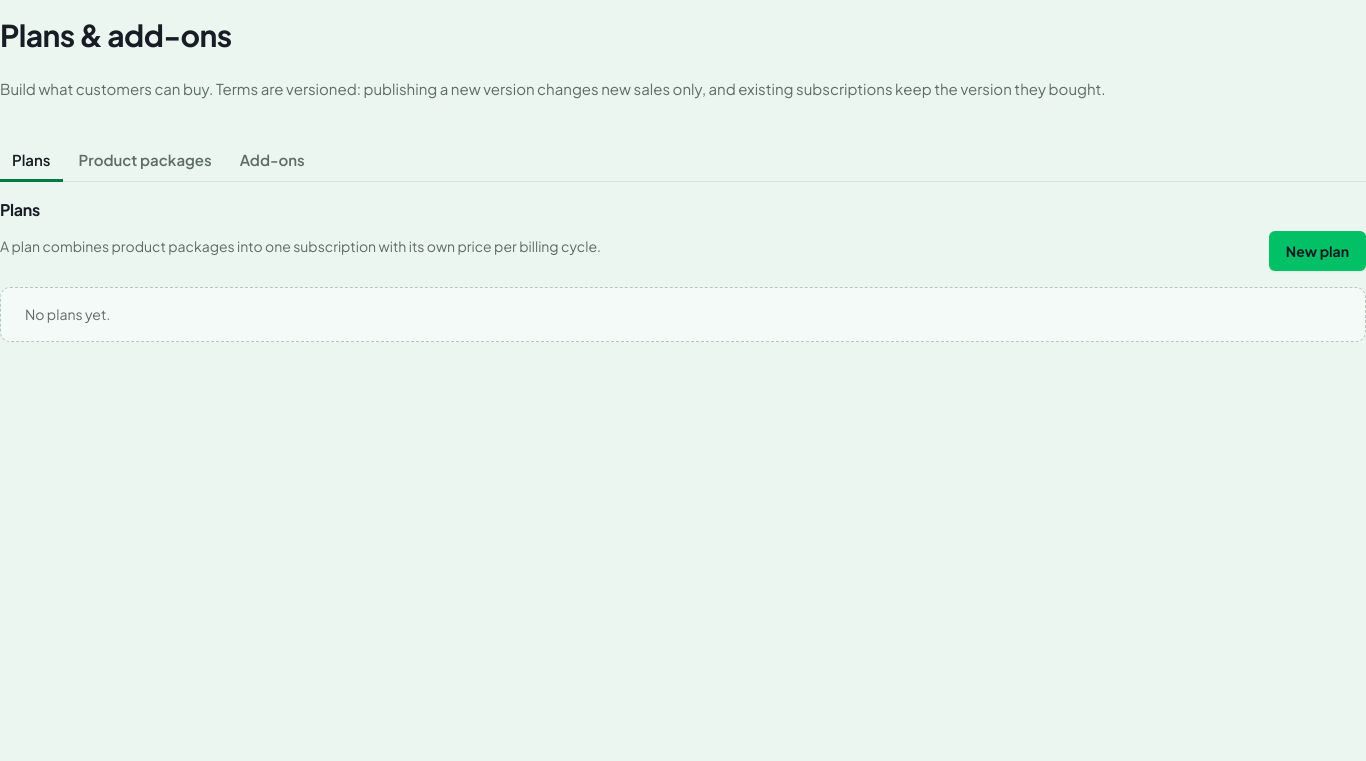
Scenario: the plan builder › edits presentation and visibility without touching terms
This screenshot has width=1366, height=761.
Click the tab "Product packages" at (145, 161), box [66,141,224,182]
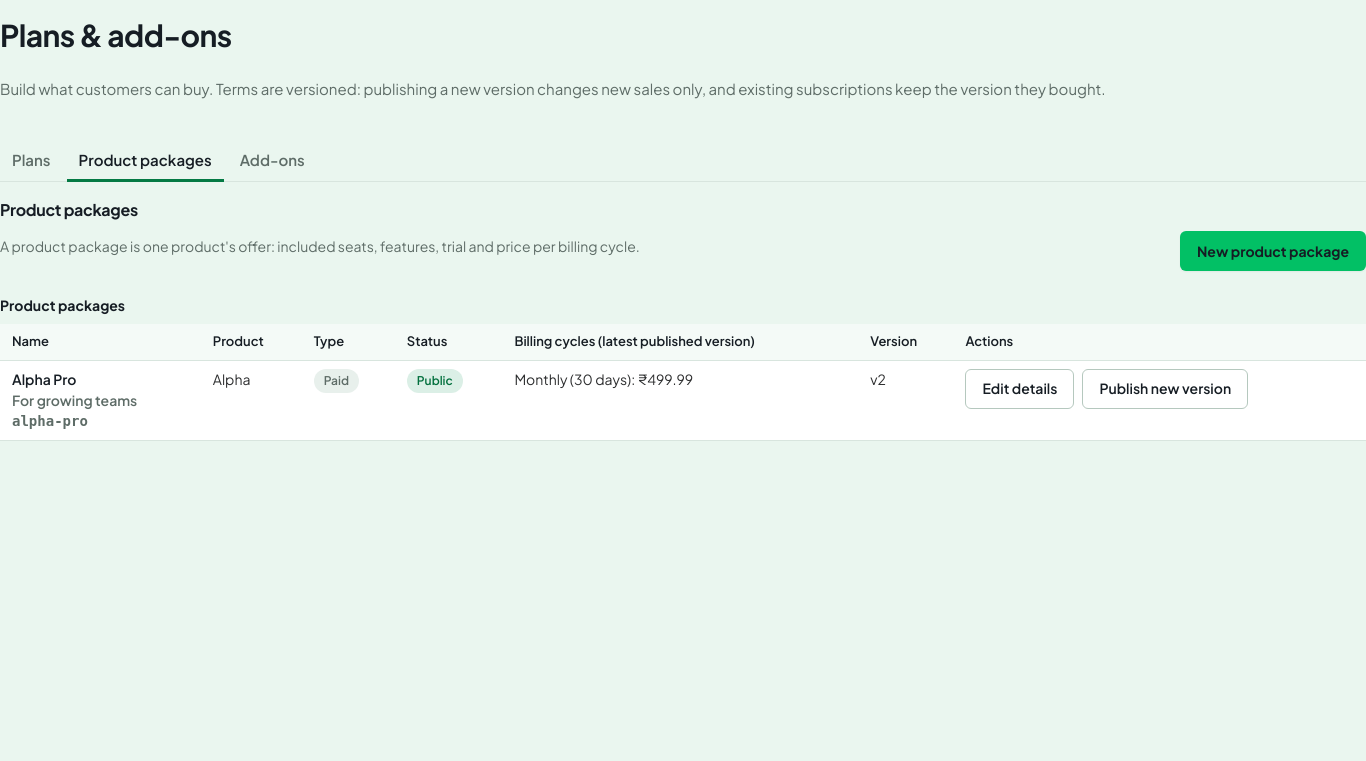
Click the button with aria-label "Edit details of Alpha Pro" at (1020, 389), box [965,369,1074,409]
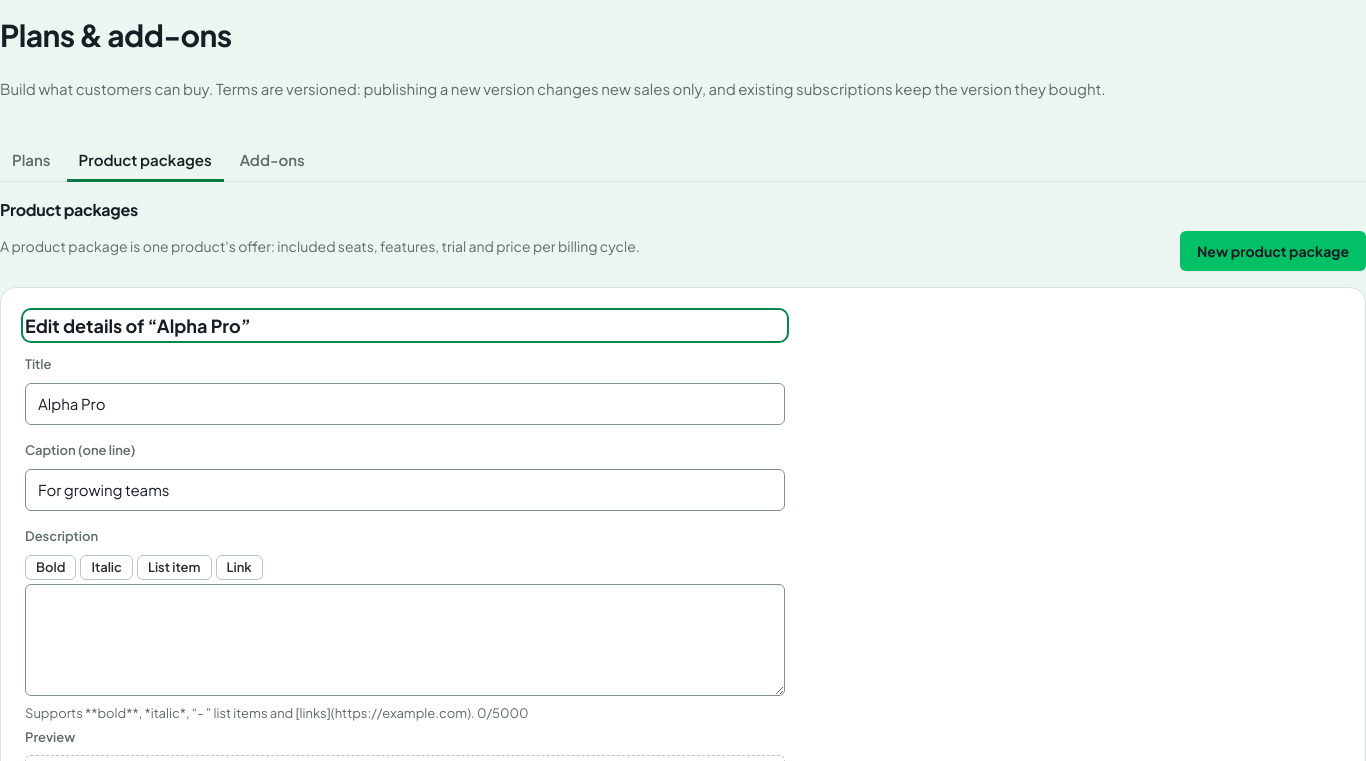
Replace the text in the field labelled "Title" with "Alpha Professional" at (405, 404), box [25,383,785,425]
(page scrolled)
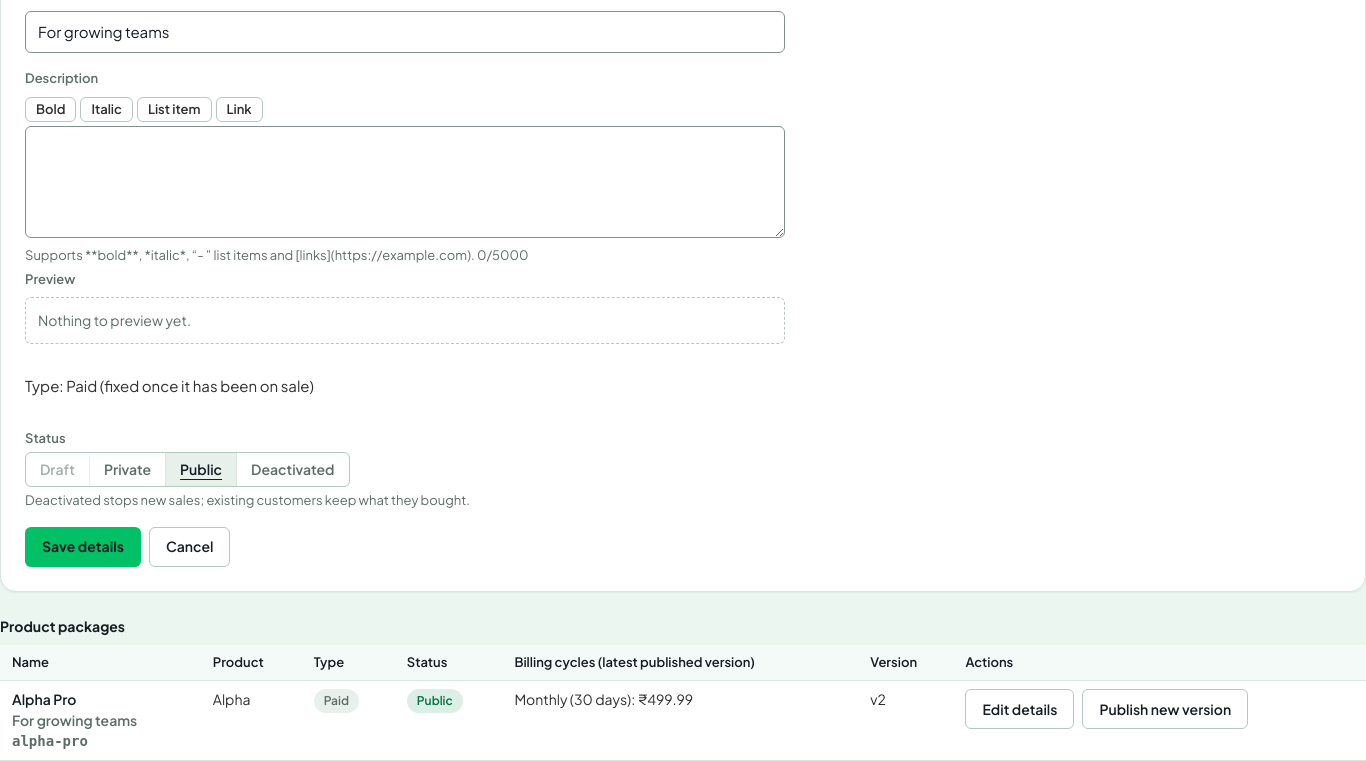
Click the radio button labelled "Private" at (128, 470), box [90,453,166,486]
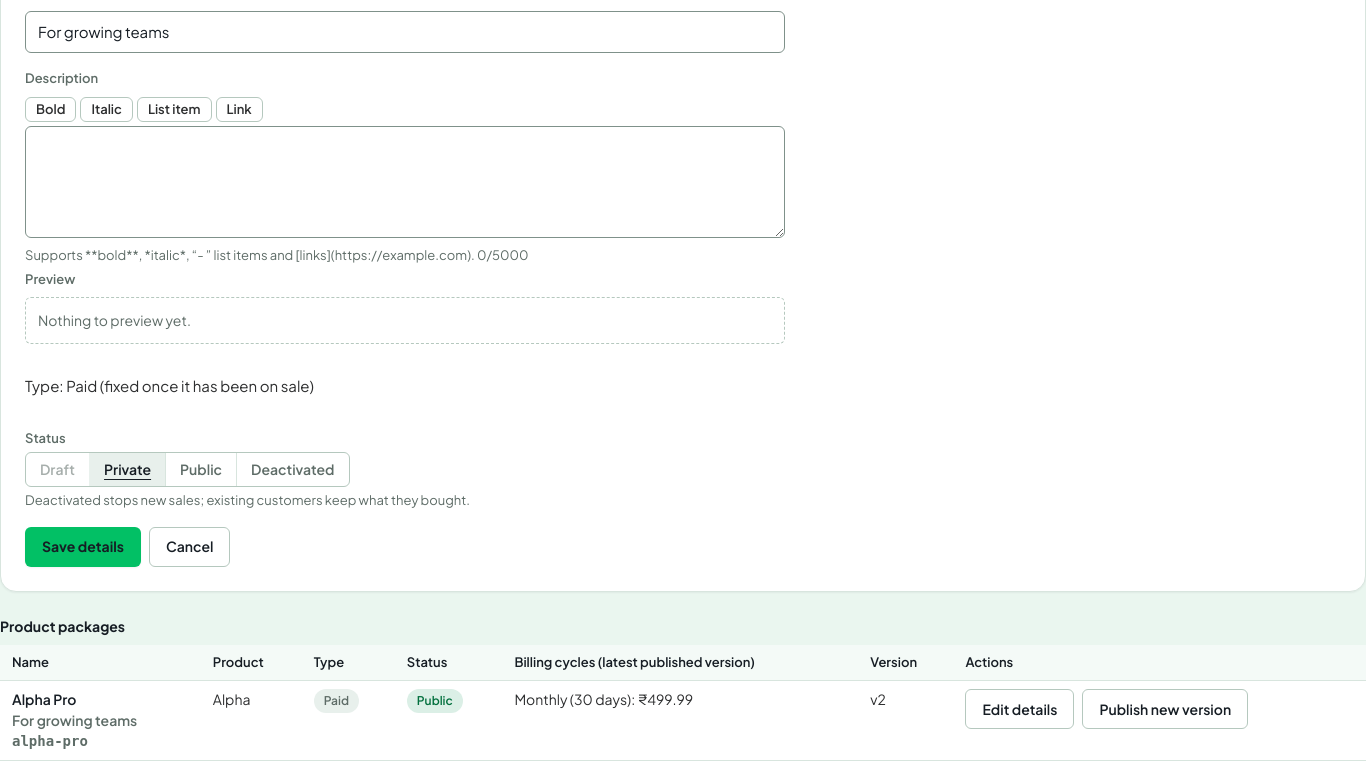
Expected: the radio button labelled "Draft" is disabled, [26,453,90,486]
Click the button "Save details" at (83, 547), box [25,527,141,567]
(page scrolled)
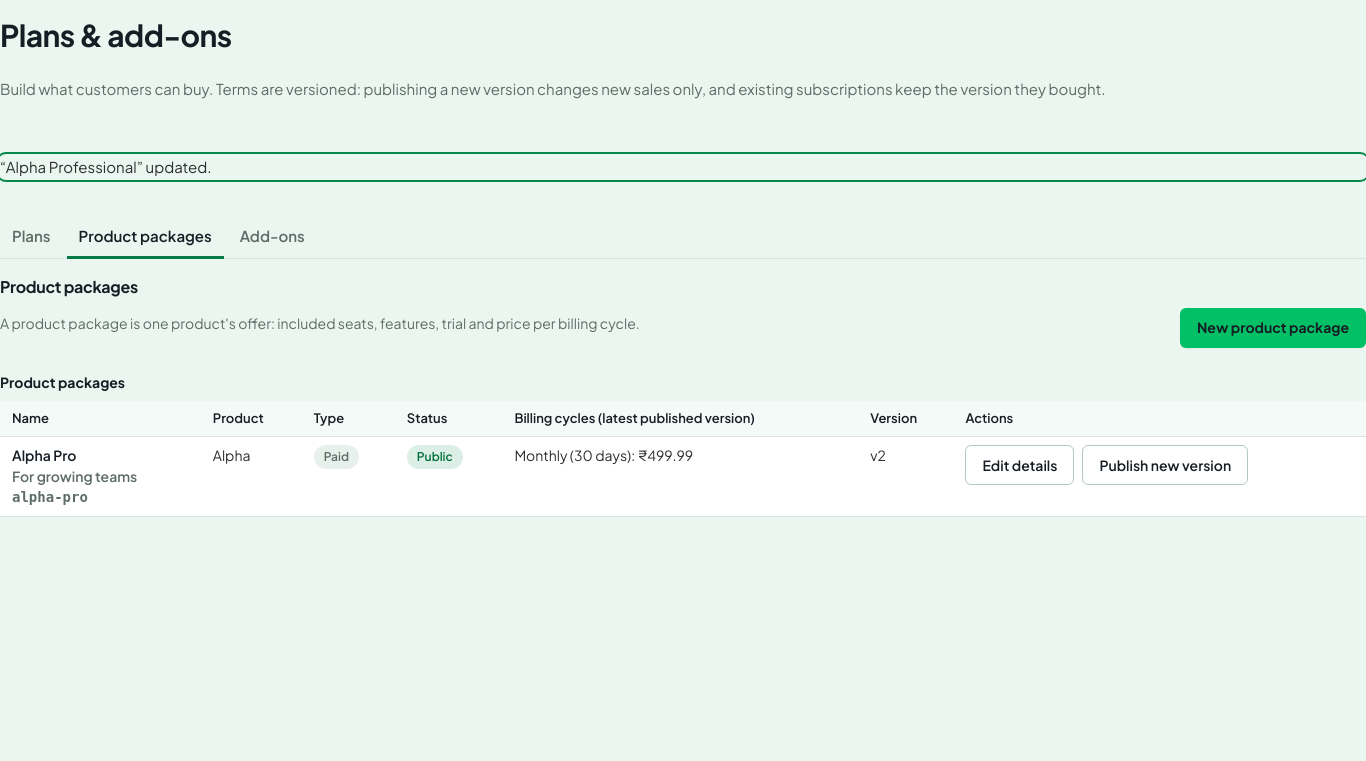
Expected: the text "“Alpha Professional” updated." is shown, [0,157,212,176]
